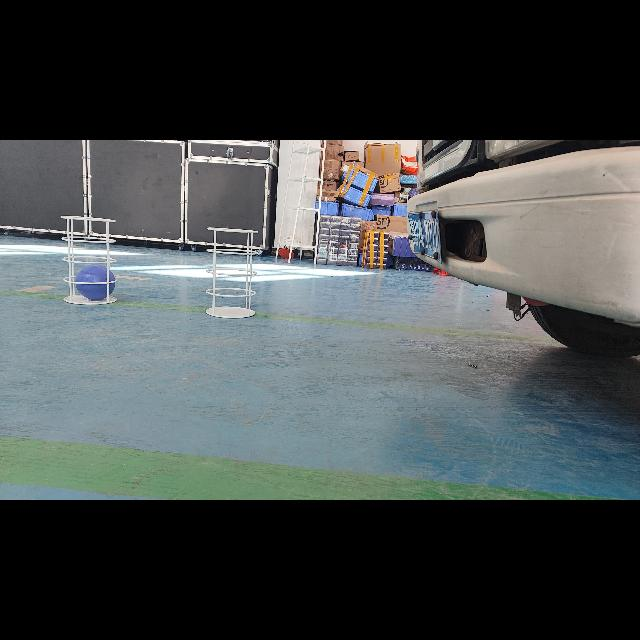B: (74, 265, 116, 301)
S: (198, 224, 262, 320), (61, 216, 125, 310)
